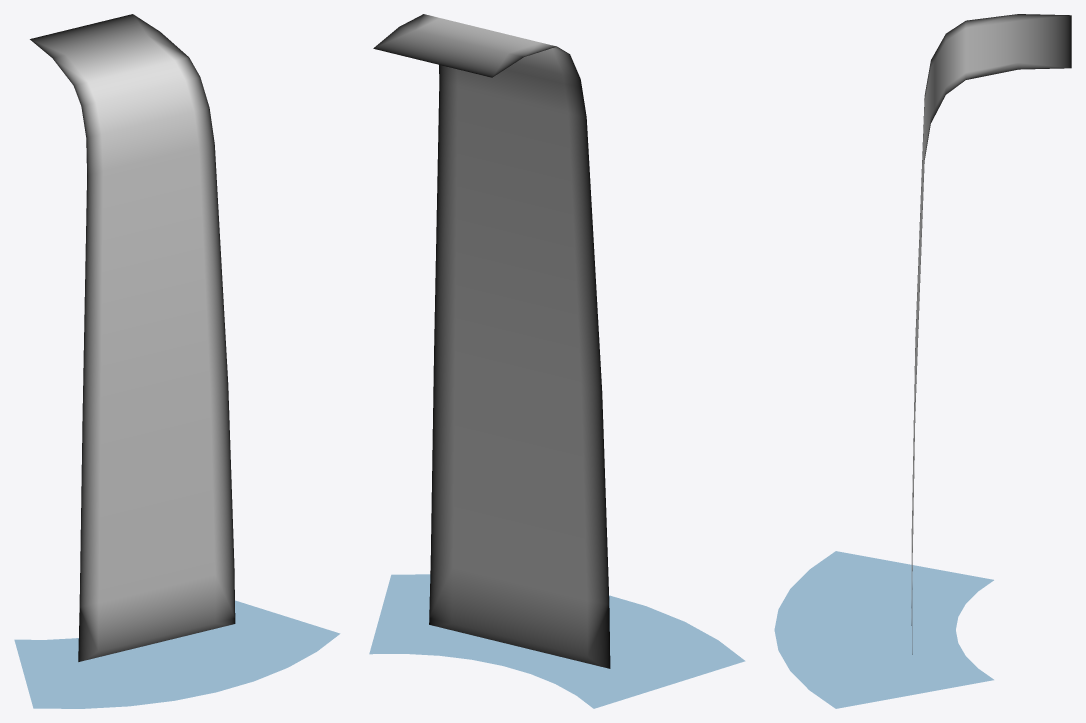
The model's file is SM_Waterfall5.fbx.
The picture shows the model from 3 angles, left to right: view 1: azimuth 30°, elevation 25°; view 2: azimuth 150°, elevation 25°; view 3: azimuth 270°, elevation 25°; orthographic projection. The views are drawn at different scales.
Parts seen in each view (by area): view 1: SM_Waterfall5; view 2: SM_Waterfall5; view 3: SM_Waterfall5.
Boxes of the visible parts, <box> form: SM_Waterfall5: <box>14,14,340,708</box>; SM_Waterfall5: <box>369,14,745,708</box>; SM_Waterfall5: <box>774,14,1071,708</box>.
Size of the model in its own units: 1030 by 1807 by 819.
